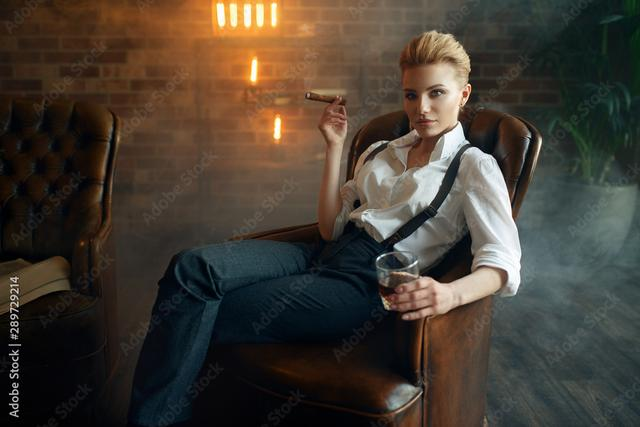Cigar: (303, 90, 346, 105)
